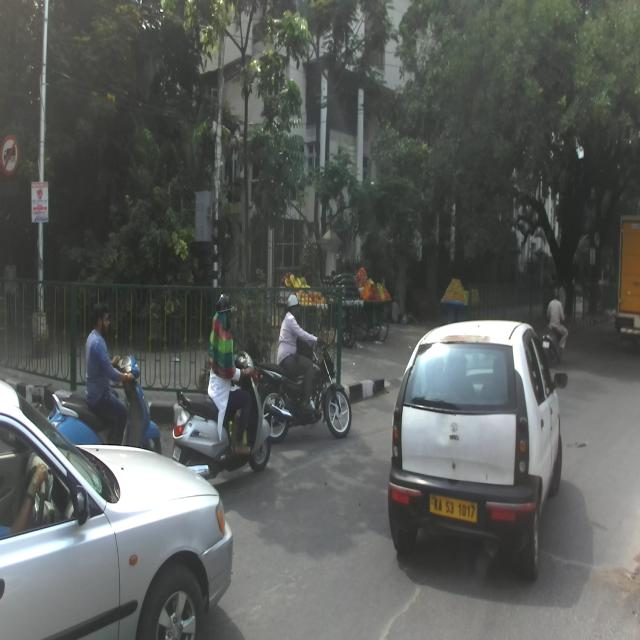car ahead at: (6, 382, 228, 640), (394, 324, 562, 576)
motorcycle ahead at: (254, 347, 351, 438)
